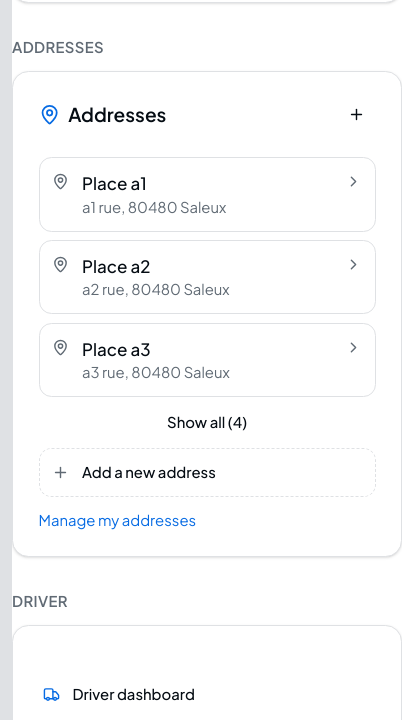
Test: Profile — the saved addresses card › shows three, and the rest behind a toggle
(page scrolled)
Expected: the text "Place a3" is shown, left=82, top=337, right=150, bottom=362
Expected: the text "Place a4" is not shown
Click the button "Show all (4)": x=207, y=423 left=38, top=406, right=376, bottom=440
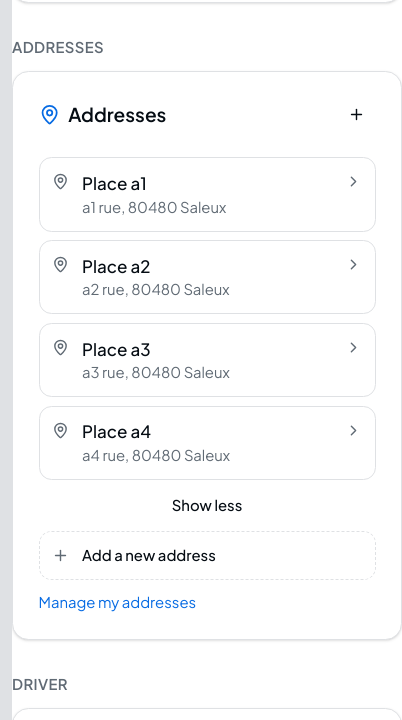
Expected: the text "Place a4" is shown, left=82, top=419, right=151, bottom=445
Expected: the button "Show less" is expanded, left=38, top=488, right=376, bottom=522
